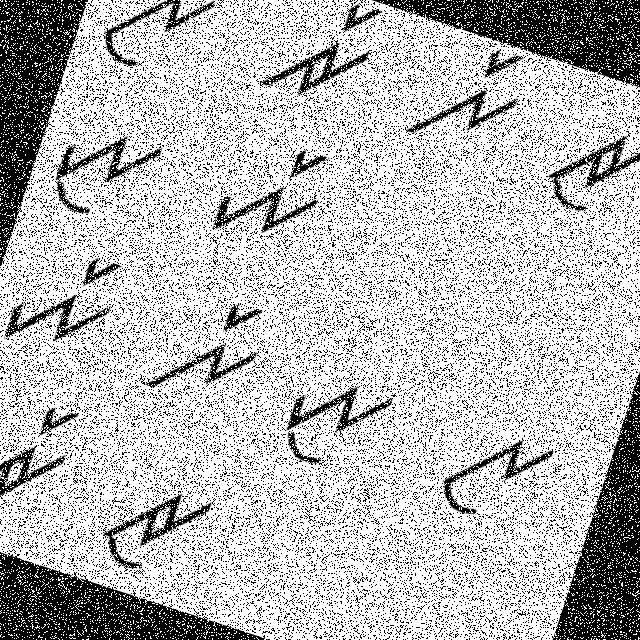lar: (401, 28, 538, 175), (142, 280, 276, 426)
law: (426, 396, 567, 550), (93, 0, 225, 94)
rar: (259, 0, 392, 122), (0, 377, 95, 529)
raw: (89, 459, 223, 598), (536, 99, 639, 235)
yar: (198, 120, 350, 268), (0, 225, 141, 380)
yaw: (262, 344, 408, 495), (38, 108, 172, 244)
